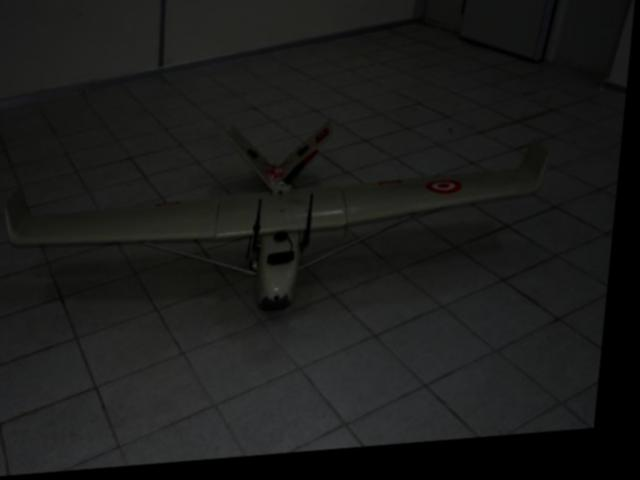iha: (0, 120, 564, 315)
